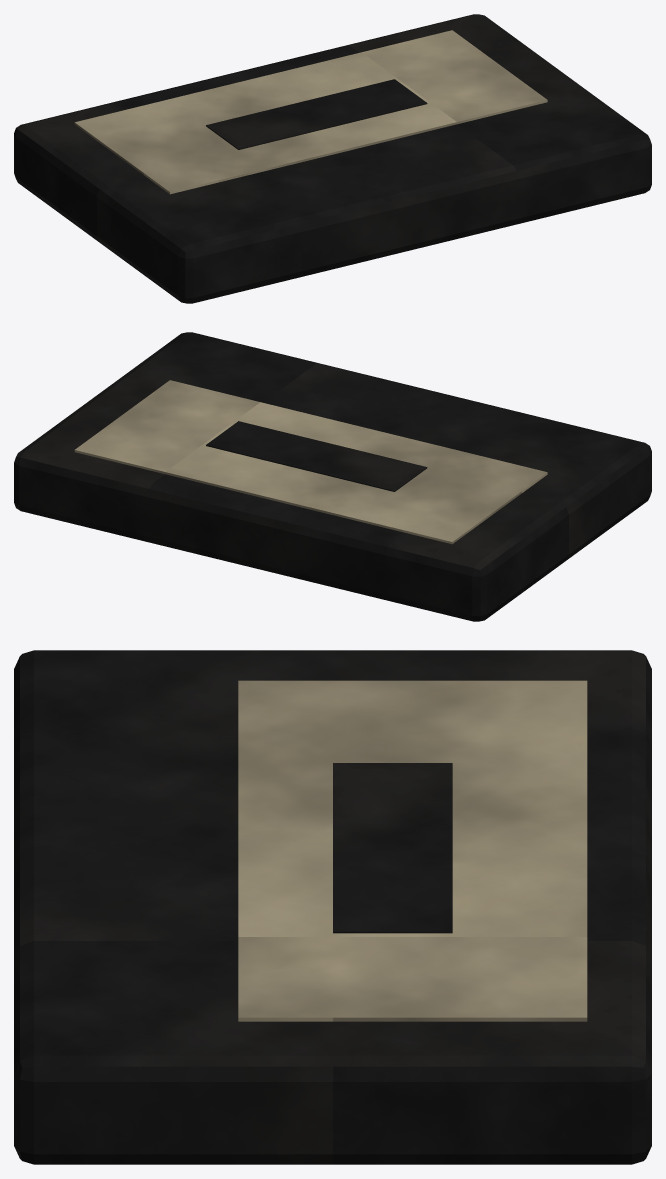
File: G07_cassette_tape.glb
The picture shows the model from 3 angles, top to bottom: view 1: azimuth 30°, elevation 25°; view 2: azimuth 150°, elevation 25°; view 3: azimuth 270°, elevation 25°; orthographic projection. The views are drawn at different scales.
Visible parts, largest first — view 1: G07_cassette_tape; view 2: G07_cassette_tape; view 3: G07_cassette_tape.
Boxes of the visible parts, bbox=[...] form: G07_cassette_tape: bbox=[14, 14, 651, 303]; G07_cassette_tape: bbox=[14, 332, 651, 621]; G07_cassette_tape: bbox=[14, 650, 651, 1164].
Bounding box in the file's own units: 0.1 × 0.013 × 0.064.
3 materials, 3 textured.
